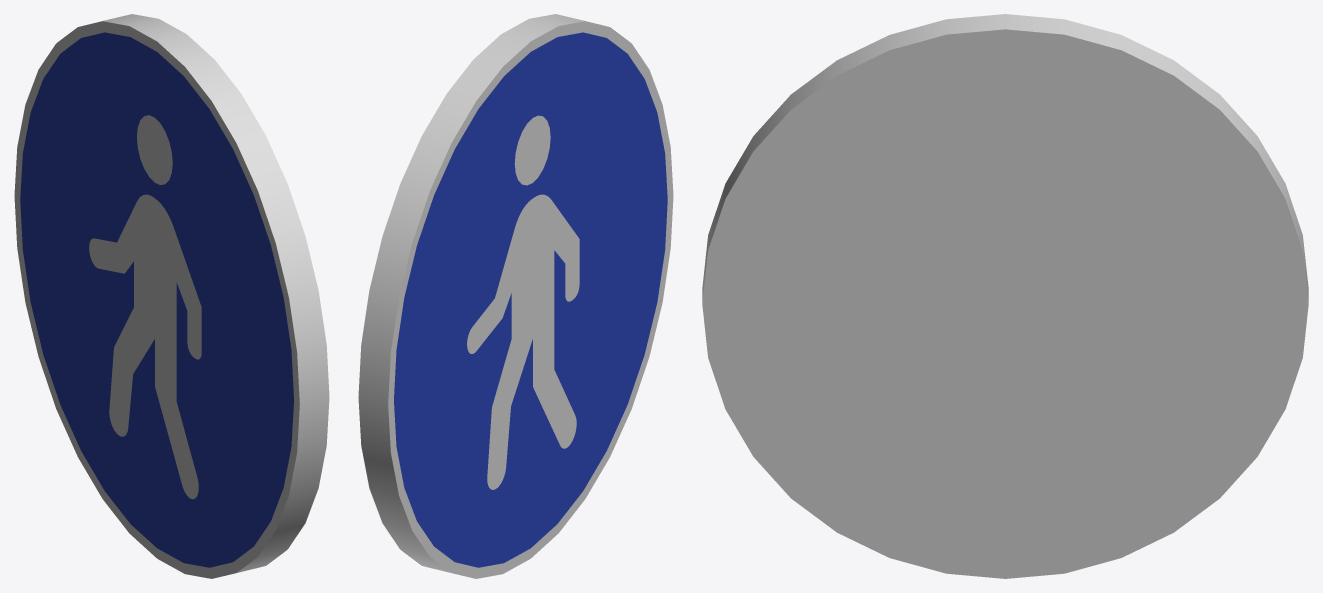
Rendered from Walk_Sign.fbx.
3 views of the same model, side by side, from view 1: azimuth 30°, elevation 25°; view 2: azimuth 150°, elevation 25°; view 3: azimuth 270°, elevation 25° (orthographic). The views are drawn at different scales.
Visible parts, largest first — view 1: Walk_Sign; view 2: Walk_Sign; view 3: Walk_Sign.
Boxes of the visible parts, <box> form: Walk_Sign: <box>14,14,329,578</box>; Walk_Sign: <box>358,14,673,578</box>; Walk_Sign: <box>702,14,1308,578</box>.
Bounding box in the file's own units: 0.0643 × 1 × 1.
